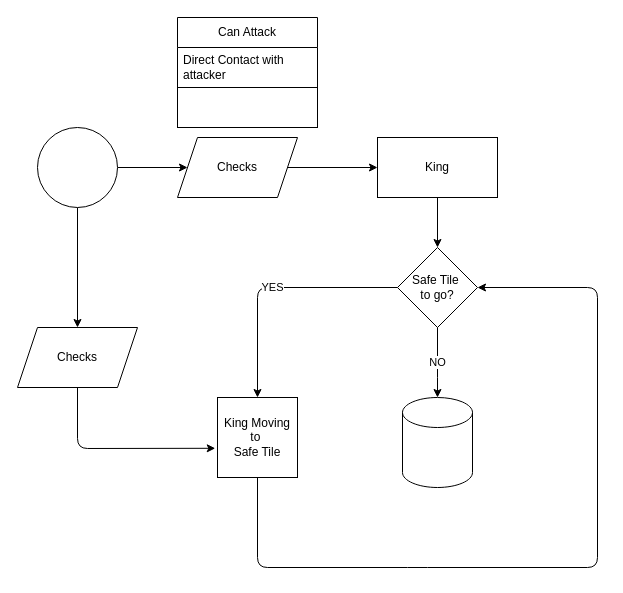
This 623x593 diagram has some shape labels left out. The shapes that lost their labels are listed below. From the top down, each one's centre as x and y in pixels, then its label:
At (247,107): "Absolute Piece Pinned".
At (77,167): "Attacker".
At (437,442): "CheckMate".
